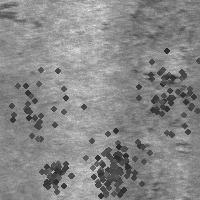rolled-in_scale: (0, 58, 90, 172), (115, 40, 200, 150), (125, 4, 199, 117), (72, 111, 162, 200), (77, 142, 139, 200), (114, 119, 158, 199), (98, 2, 168, 51), (26, 146, 80, 200), (1, 1, 45, 28)
